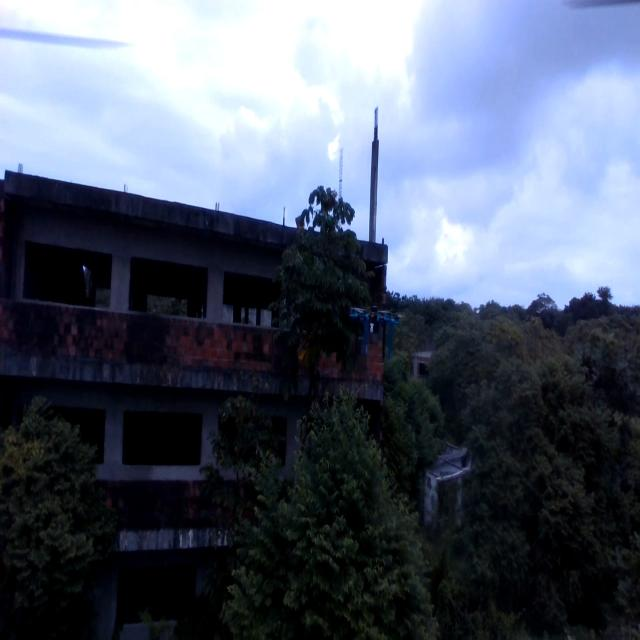-uav-: (353, 298, 399, 363)
